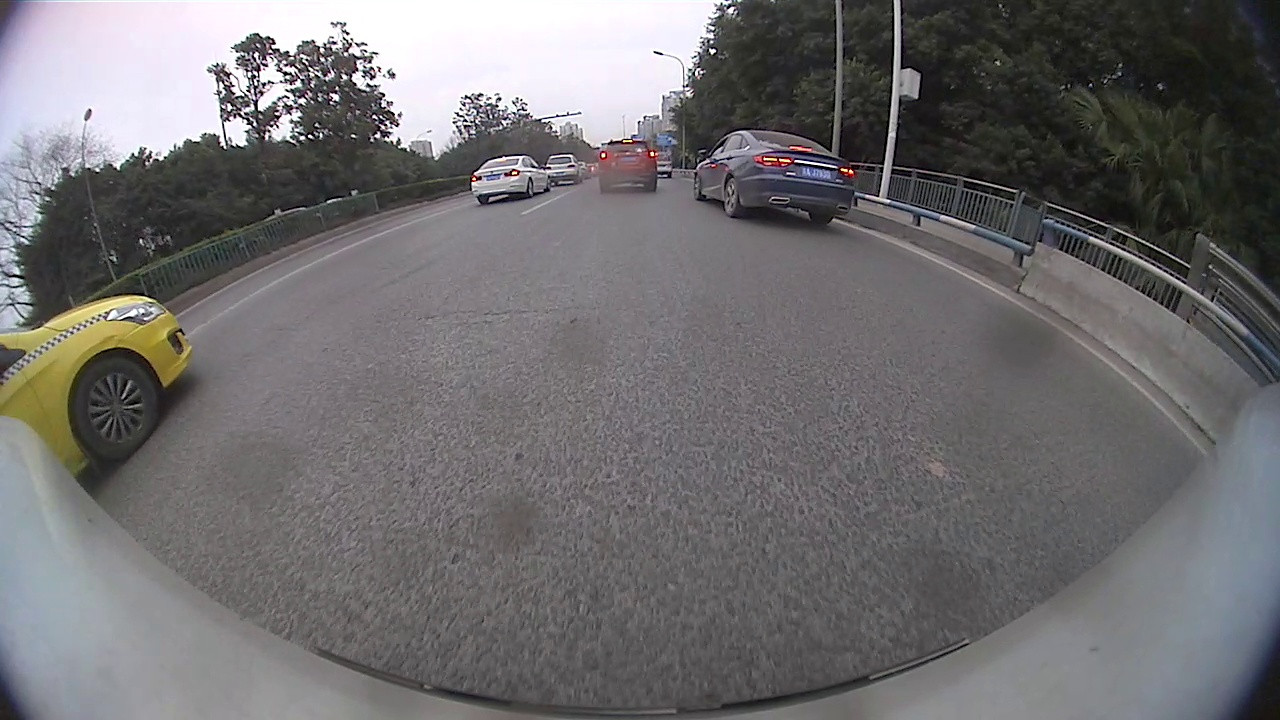car: (1, 293, 196, 482), (690, 128, 858, 228), (469, 153, 553, 205), (597, 137, 660, 195), (543, 151, 584, 188)
front: (70, 354, 163, 461), (692, 175, 704, 200)
rear: (721, 177, 744, 219), (523, 179, 536, 198)
